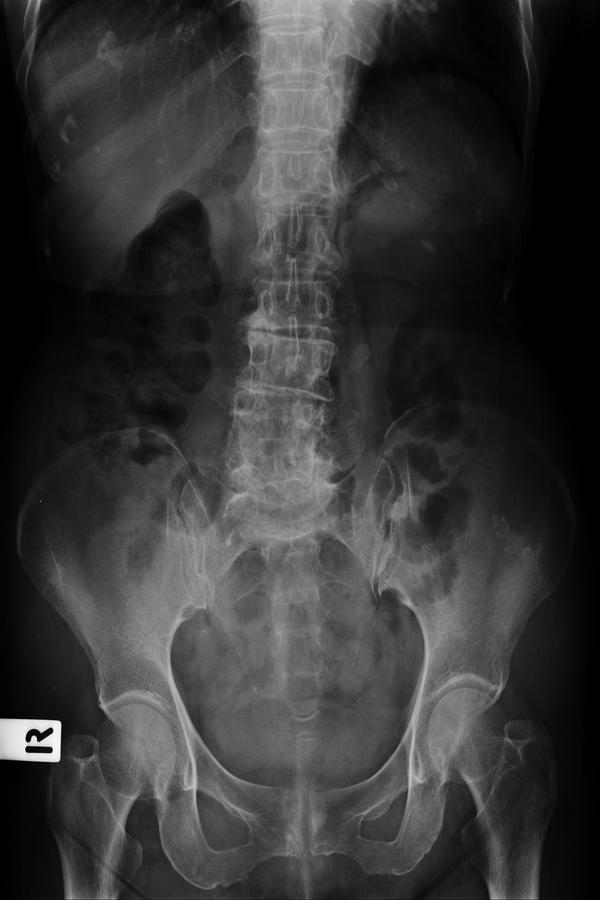lumbar scoliosis: (220, 128, 359, 525)
